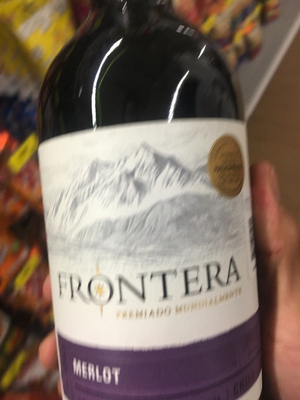frontera merlot: (31, 22, 271, 400)
